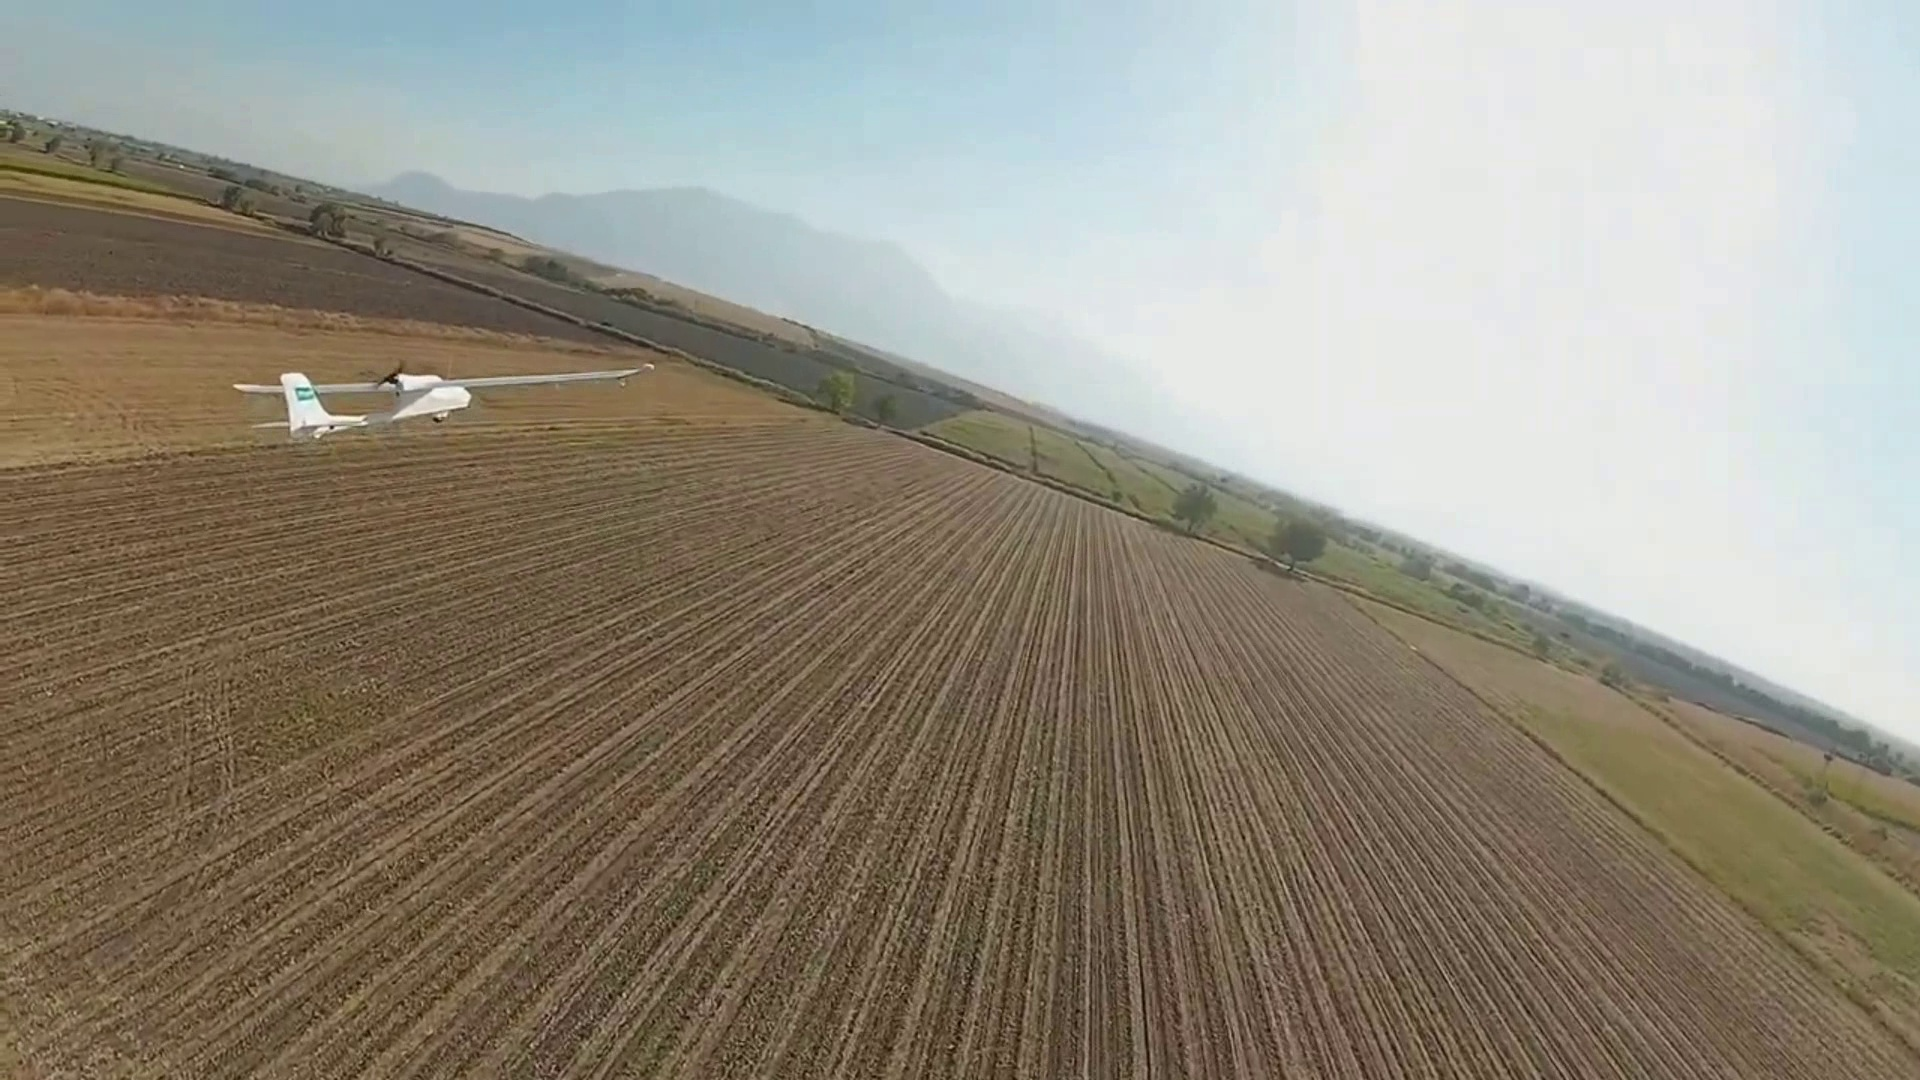airplane: (227, 367, 475, 438)
